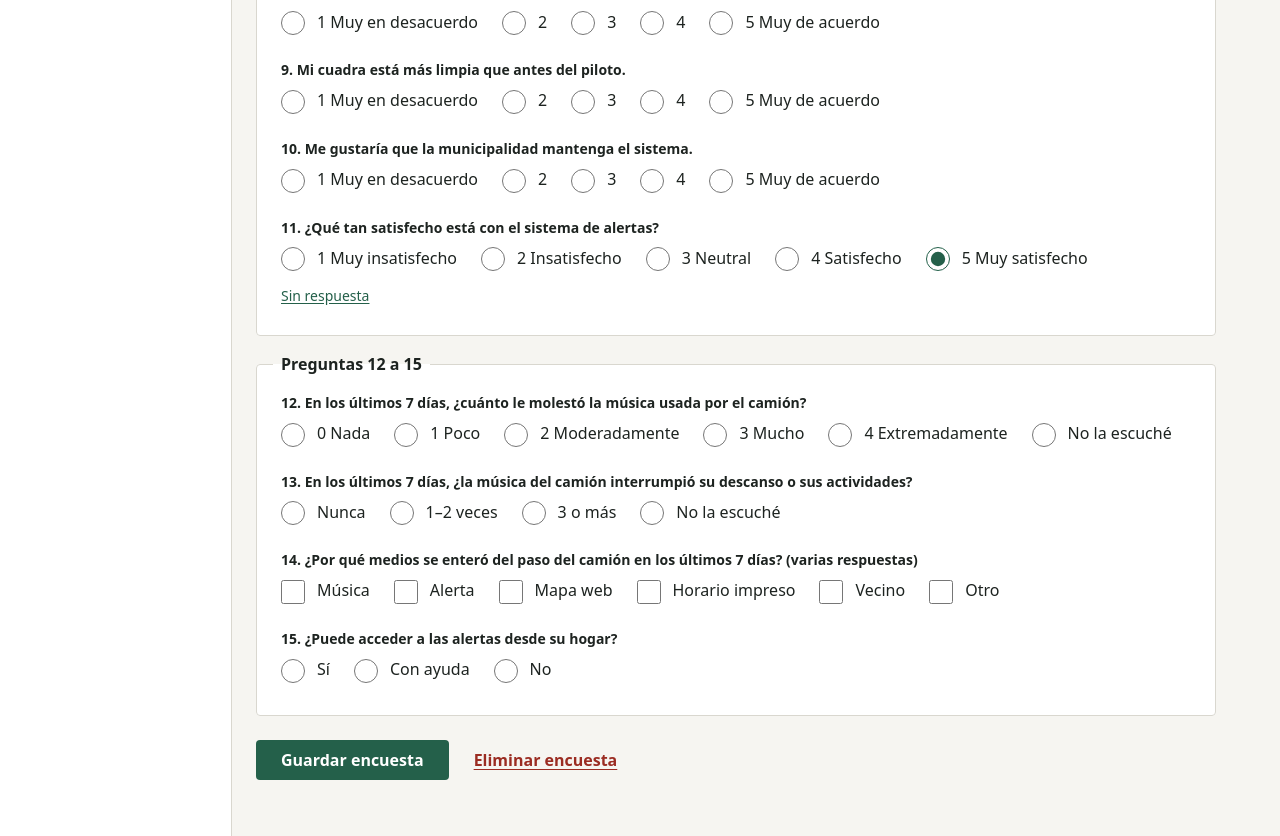
SurveyEditorPage › deletes a survey only after the confirmation
(page scrolled)
Click the button "Eliminar encuesta".
click(545, 760)  # box 473,740 -> 618,780
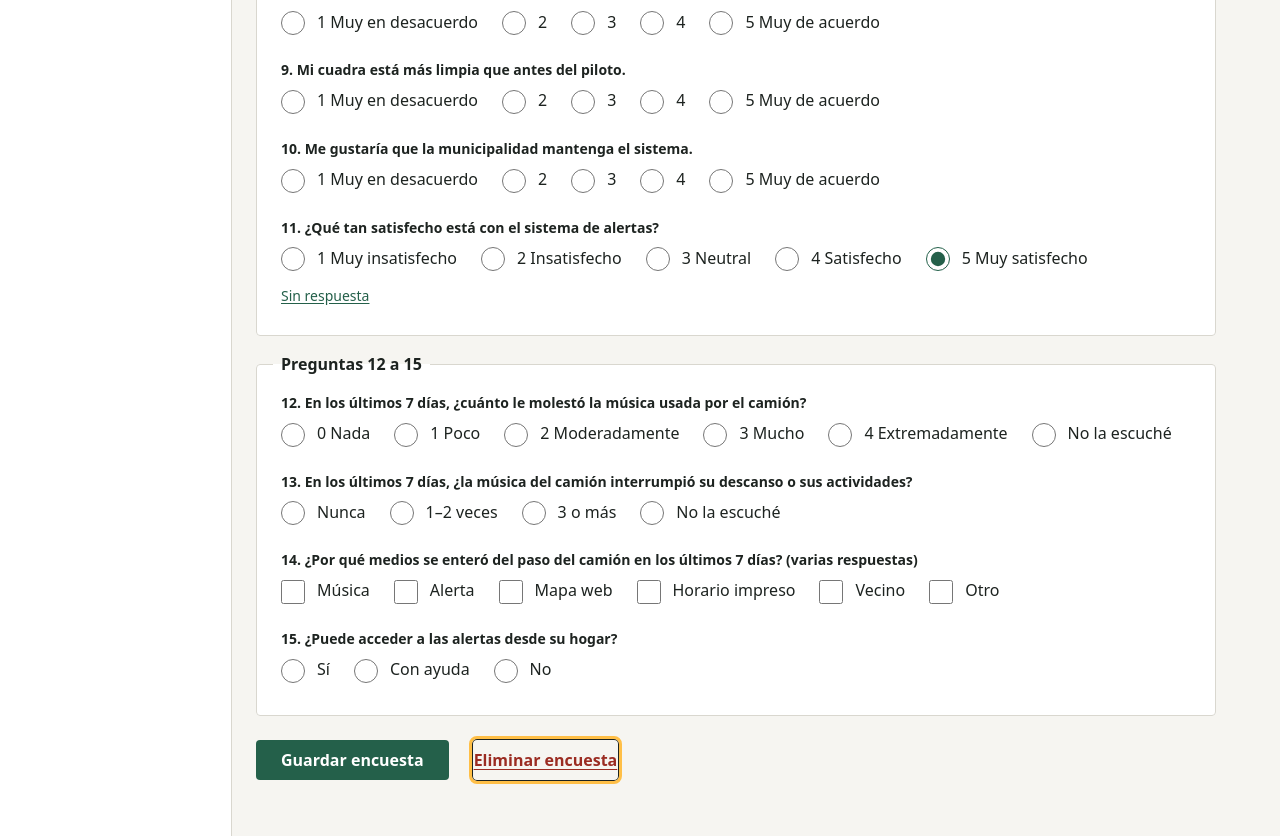
Click the button "Eliminar encuesta".
click(545, 760)  # box 473,740 -> 618,780
(page scrolled)
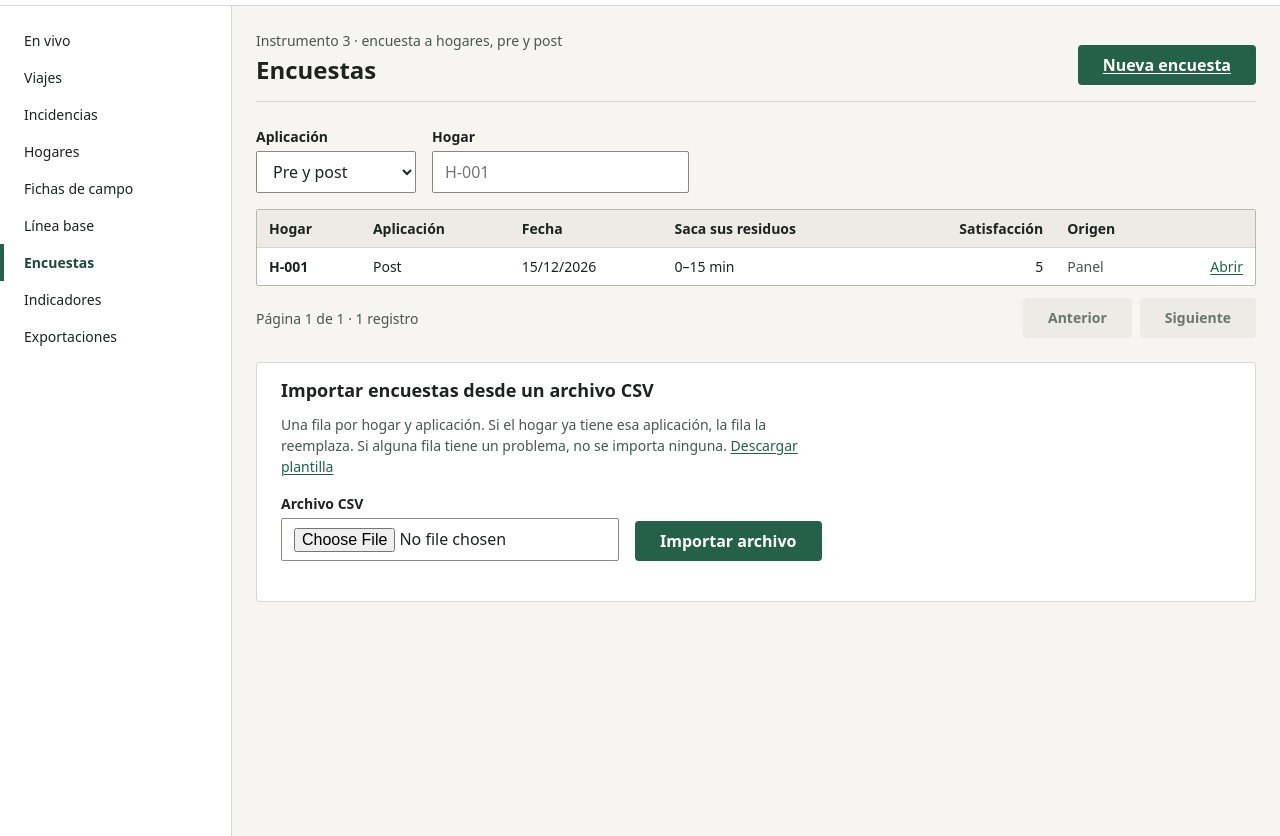
Check: the heading "Encuestas" is shown, box 256,53 -> 376,86
